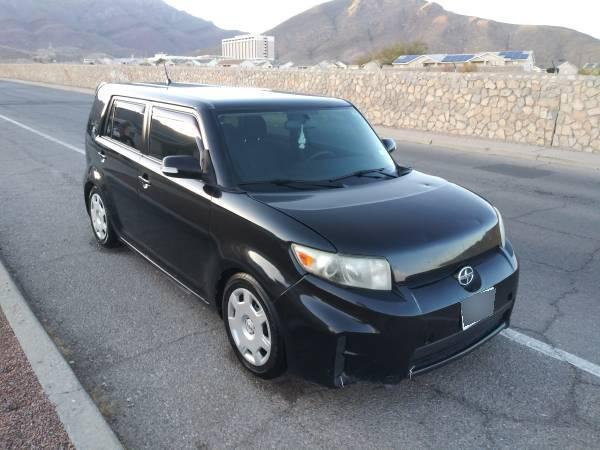Front_Bumper: (272, 235, 518, 381)
Front_Fender: (208, 187, 339, 314)
Front_Left_Door: (136, 158, 213, 305)
Front_Right_Window: (142, 101, 208, 182)
Front_Windshield: (221, 107, 402, 187)
Hood: (243, 167, 501, 288)
Rear_Right_Door: (82, 130, 142, 245)
Rear_Right_Window: (100, 95, 147, 154)
Right_Headlight: (284, 238, 386, 288)
Roof: (86, 80, 353, 186)
Wheel: (221, 273, 284, 376), (89, 189, 110, 242)
